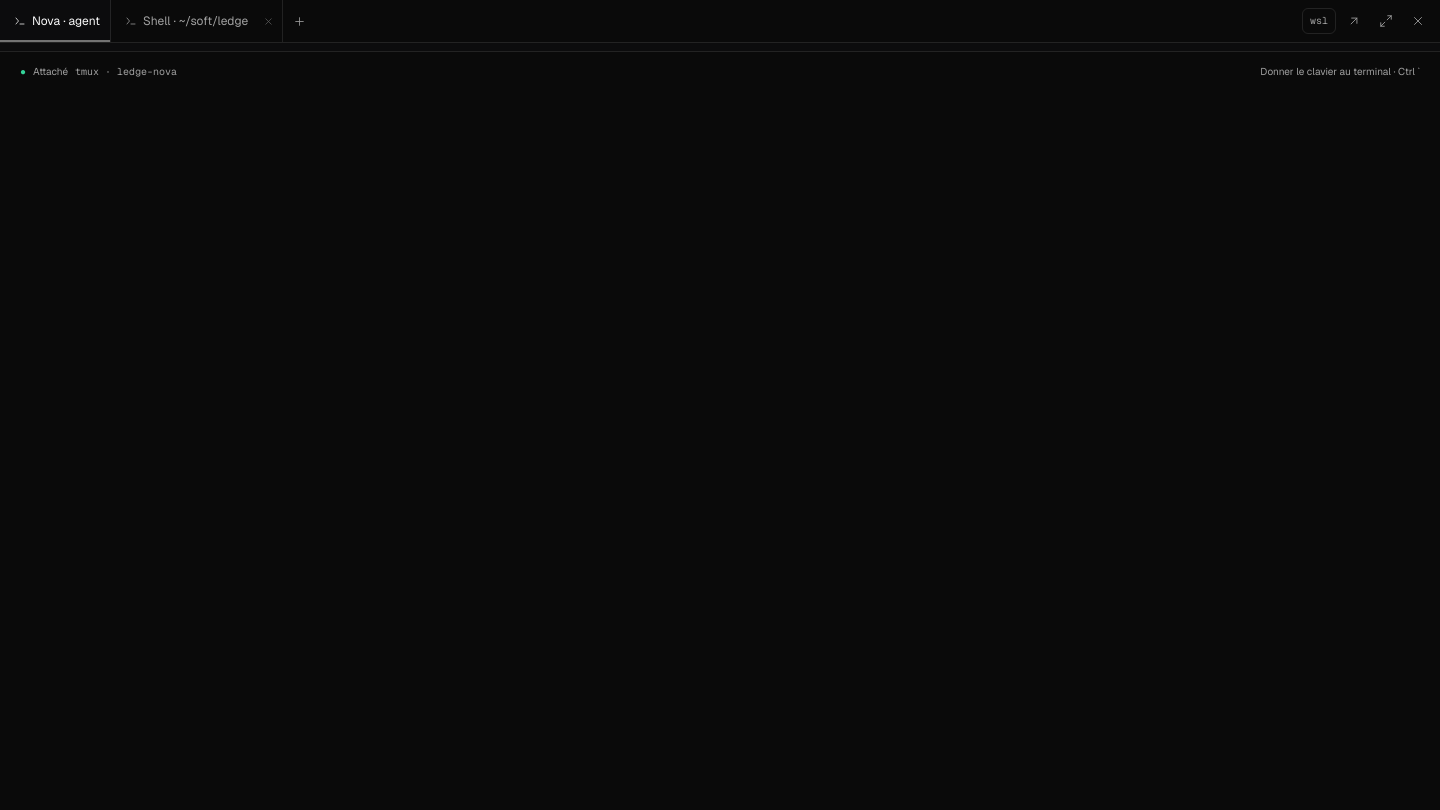
it: a shell that ended without a code says so plainly
Click the tab "Shell · ~/soft/ledge" at (184, 21), box [111, 0, 258, 42]
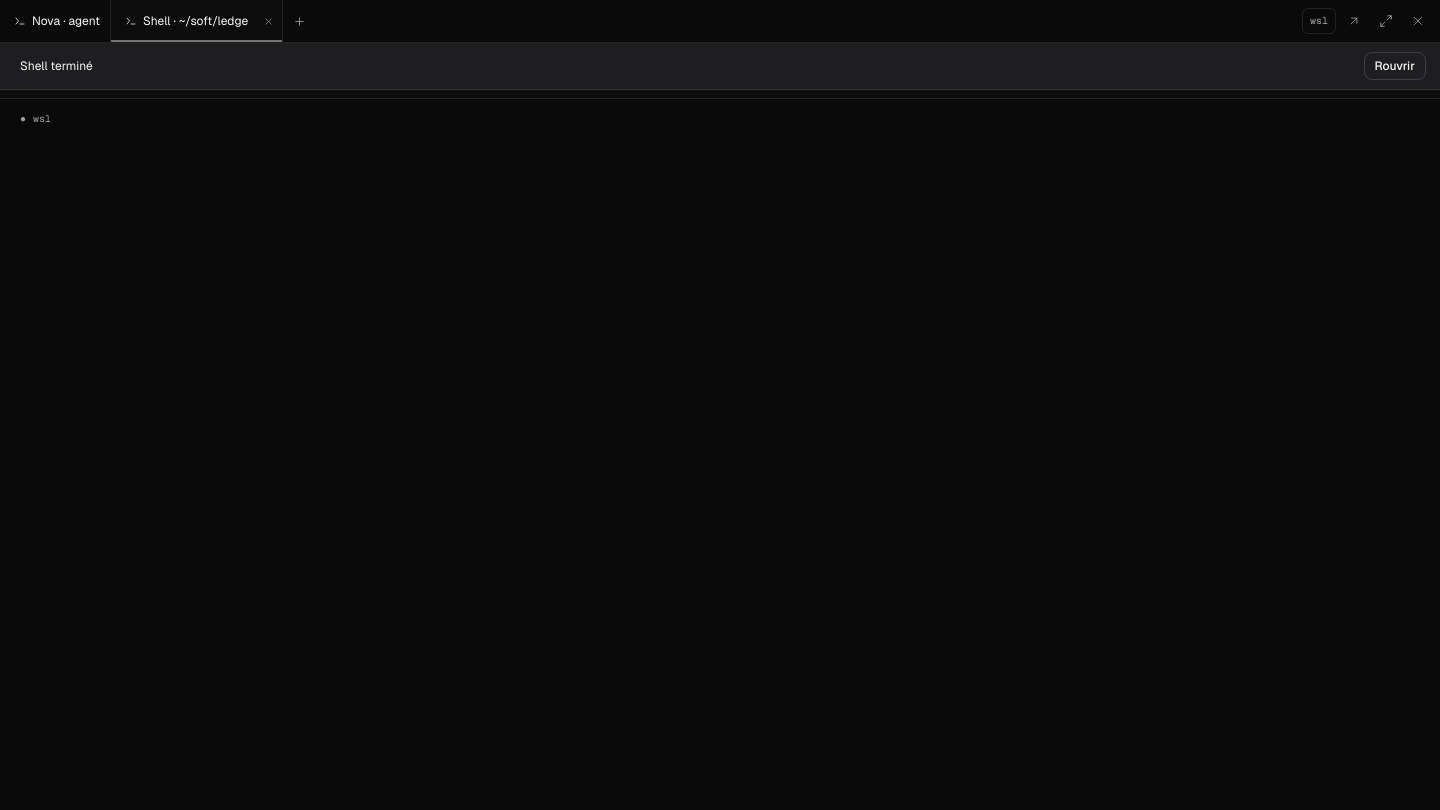
Check: the text "Shell terminé" is shown, box [20, 58, 93, 74]
Check: the button "Rouvrir" is shown, box [1364, 52, 1426, 80]
